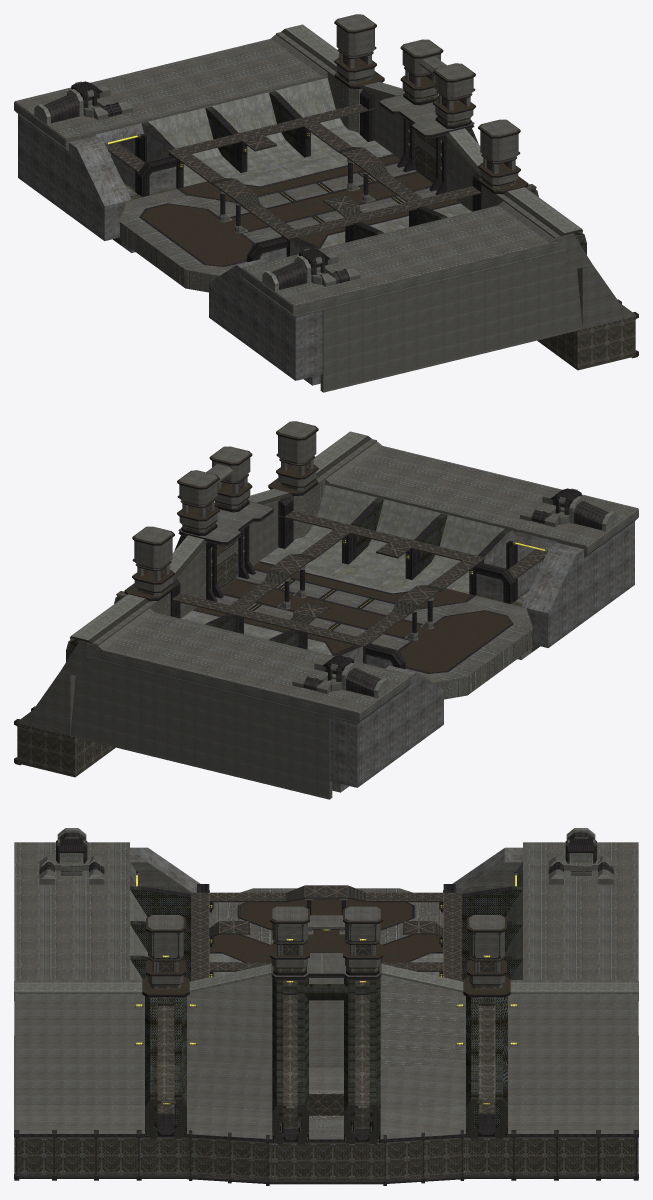
File: gorgedam.fbx
3 renders of one model, top to bottom at view 1: azimuth 30°, elevation 25°; view 2: azimuth 150°, elevation 25°; view 3: azimuth 270°, elevation 25°, orthographic. The views are drawn at different scales.
Visible parts, largest first — view 1: Object; view 2: Object; view 3: Object.
Part boxes in pixels (bbox=[...]): Object: bbox=[14, 14, 638, 392]; Object: bbox=[14, 421, 638, 799]; Object: bbox=[14, 828, 638, 1185].
Bounding box in the file's own units: 21581 × 11806 × 28544.
